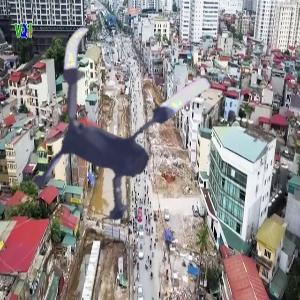drone: (4, 19, 233, 248)
